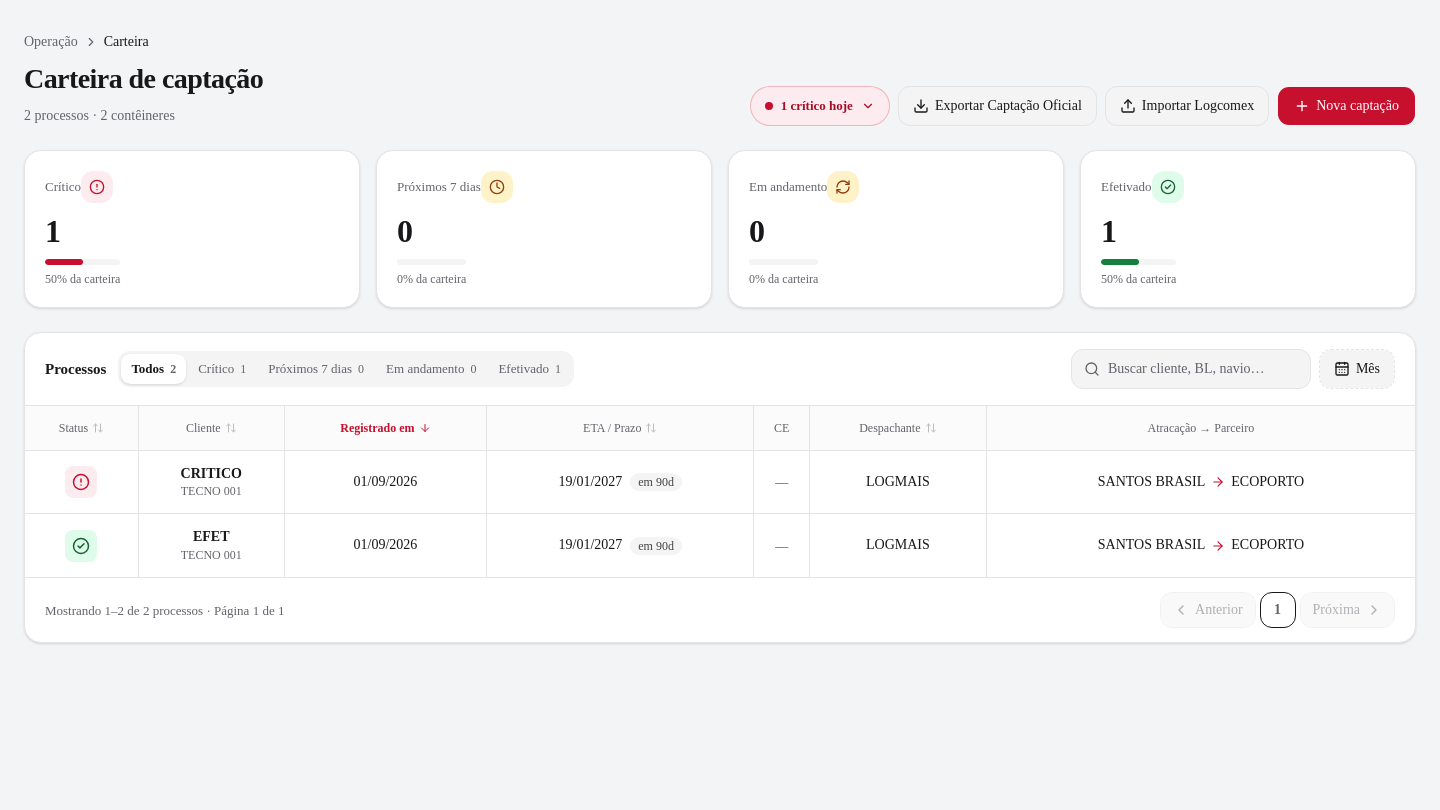
CarteiraPage › abas de status filtram a tabela e mostram a contagem (redesign 21/10/2026)
Check: the text "CRITICO" is shown, box [180,466,242,480]
Check: the tab "Todos 2" is shown, box [121,354,186,384]
Click the tab "Efetivado 1" at (530, 369), box [488,354,571,384]
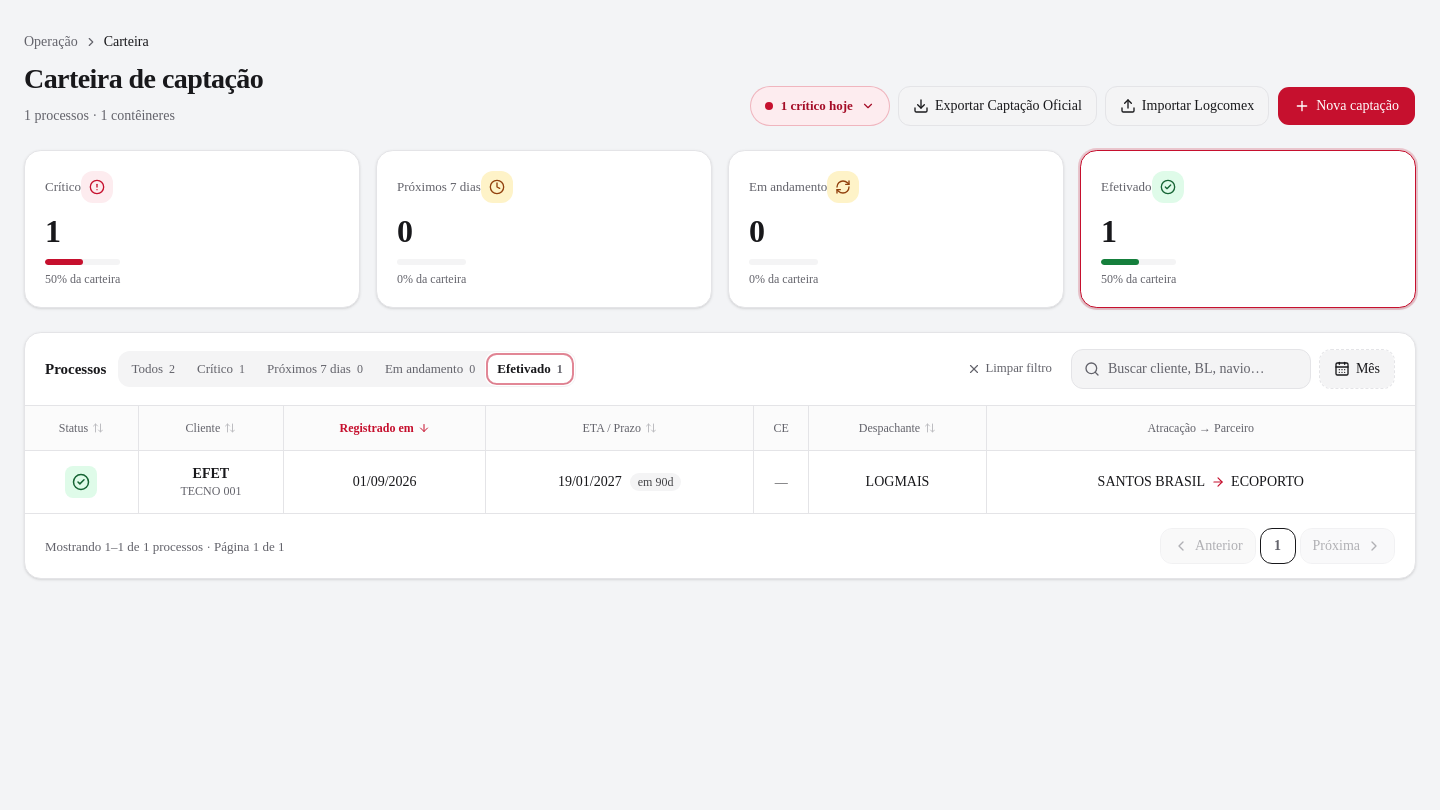
Check: the text "EFET" is shown, box [193,466,229,480]
Check: the text "CRITICO" is gone
